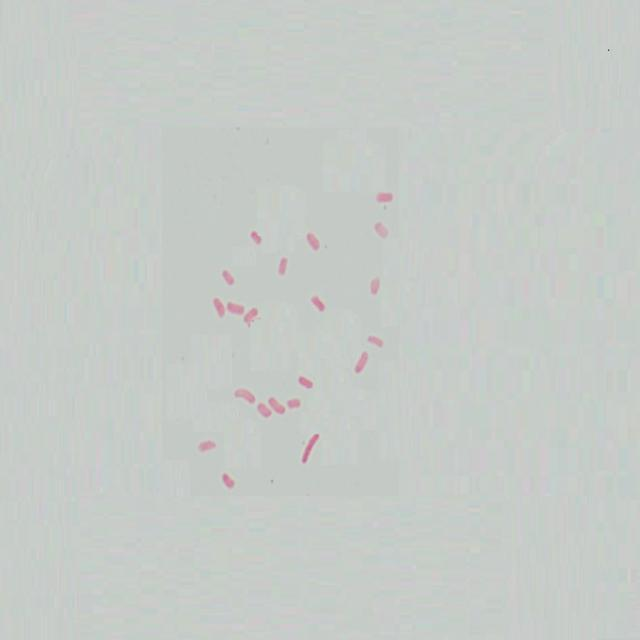E-coli: (301, 431, 322, 467), (352, 348, 371, 378), (264, 394, 289, 416), (249, 225, 268, 249), (221, 265, 239, 290), (365, 329, 387, 349), (233, 384, 256, 402), (373, 190, 395, 208), (371, 219, 389, 241), (311, 292, 327, 315), (220, 469, 236, 492), (368, 272, 382, 298), (306, 228, 320, 254), (228, 299, 244, 321), (246, 304, 260, 328), (211, 298, 225, 321), (254, 404, 275, 419), (277, 252, 288, 279), (198, 439, 216, 455), (287, 394, 302, 412), (299, 373, 313, 388)
